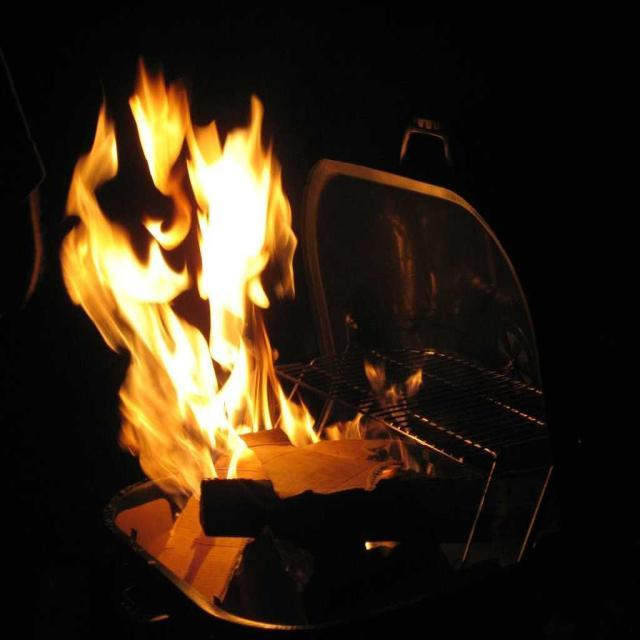Fire: (75, 111, 301, 438)
